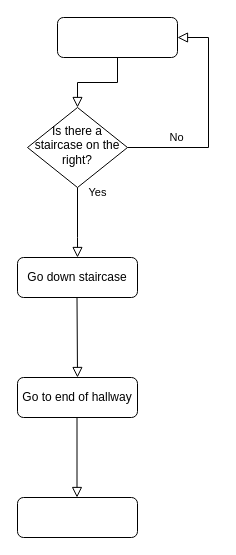
This 236x555 diagram has some shape labels left out. Here are the shapes that lost their labels. From the top down, the box of each, then its label:
(56, 16, 178, 58): Move forwards
(16, 496, 138, 538): Enter classroom
